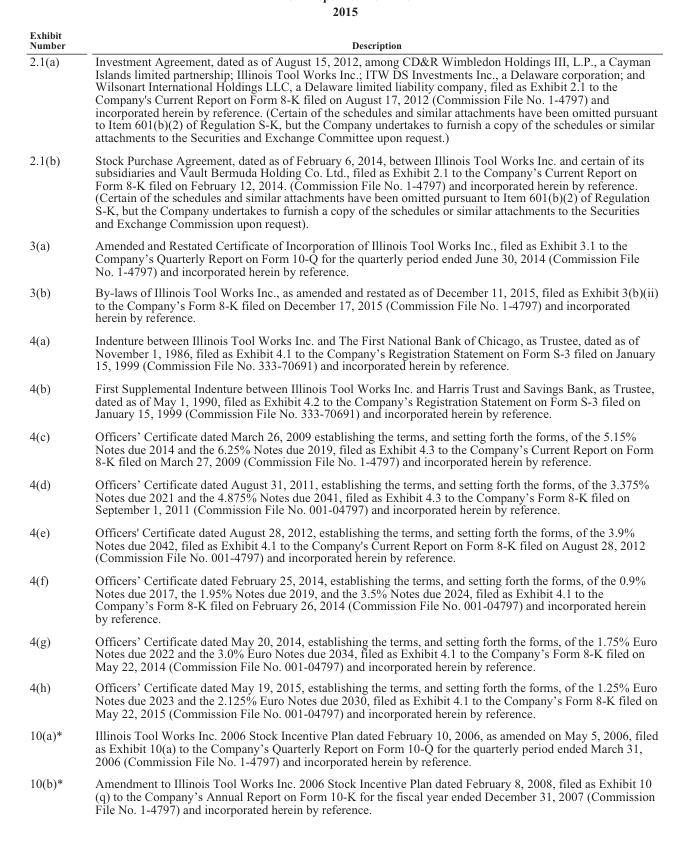table: (28, 28, 657, 815)
table column: (79, 28, 657, 815), (28, 28, 79, 815)
table column header: (28, 28, 657, 51)
table row: (28, 51, 657, 147), (28, 147, 657, 233), (28, 568, 657, 628), (28, 233, 657, 281), (28, 328, 657, 376), (28, 376, 657, 424), (28, 424, 657, 472), (28, 472, 657, 520), (28, 520, 657, 568), (28, 628, 657, 676), (28, 723, 657, 771), (28, 281, 657, 328), (28, 676, 657, 723), (28, 771, 657, 815), (28, 28, 657, 51)
